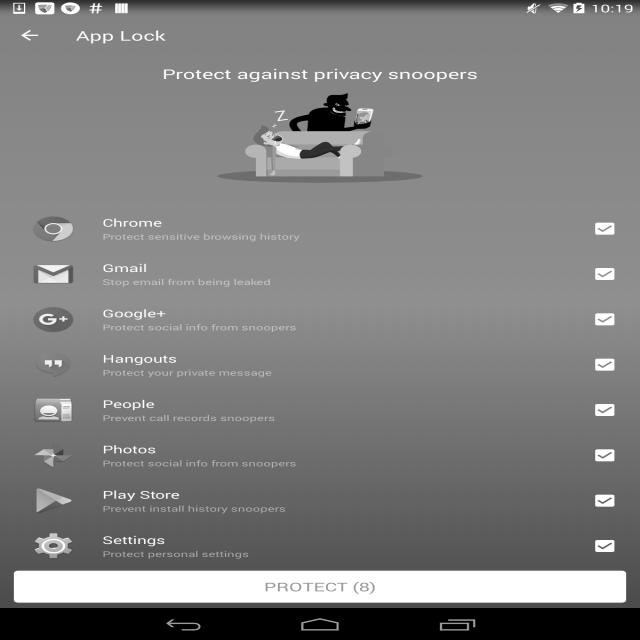Button: (9, 567, 633, 605)
CheckBox: (589, 492, 622, 511), (588, 220, 622, 238), (592, 310, 619, 330), (592, 446, 620, 464)
ImageView: (242, 102, 405, 180), (31, 394, 78, 424), (32, 304, 77, 335), (28, 259, 76, 286), (30, 215, 74, 243), (28, 487, 76, 512), (30, 532, 76, 558)
TextView: (96, 215, 311, 248), (157, 66, 484, 83), (97, 487, 292, 515), (98, 307, 305, 333), (101, 442, 300, 468), (72, 27, 167, 46)
